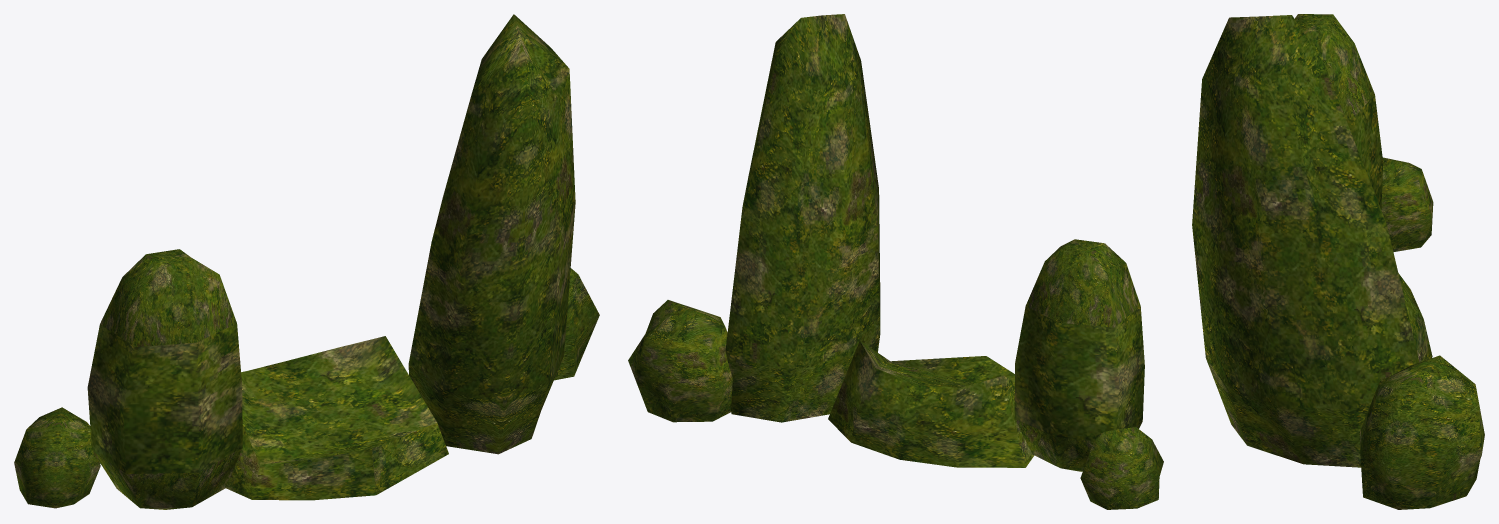
Rendered from OVERHILL_A_01_ROCK_BRIDGE_BASE.fbx.
3 views of the same model, side by side, from view 1: azimuth 30°, elevation 25°; view 2: azimuth 150°, elevation 25°; view 3: azimuth 270°, elevation 25° (orthographic). The views are drawn at different scales.
Parts seen in each view (by area): view 1: OVERHILL_A_01_ROCK_BRIDGE_BASE; view 2: OVERHILL_A_01_ROCK_BRIDGE_BASE; view 3: OVERHILL_A_01_ROCK_BRIDGE_BASE.
Part boxes in pixels (bbox=[...]): OVERHILL_A_01_ROCK_BRIDGE_BASE: bbox=[14, 14, 599, 509]; OVERHILL_A_01_ROCK_BRIDGE_BASE: bbox=[628, 14, 1163, 509]; OVERHILL_A_01_ROCK_BRIDGE_BASE: bbox=[1192, 14, 1484, 509].
Bounding box in the file's own units: 53054 × 36228 × 21907.
Materials: 2 (2 with a texture image).
